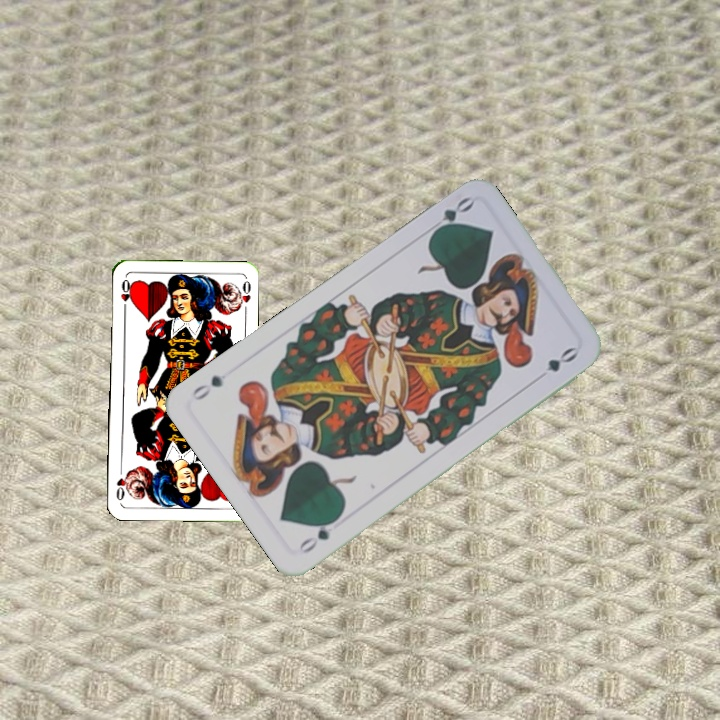GO: (423, 192, 476, 239), (294, 512, 342, 557)
HO: (116, 275, 133, 315)
